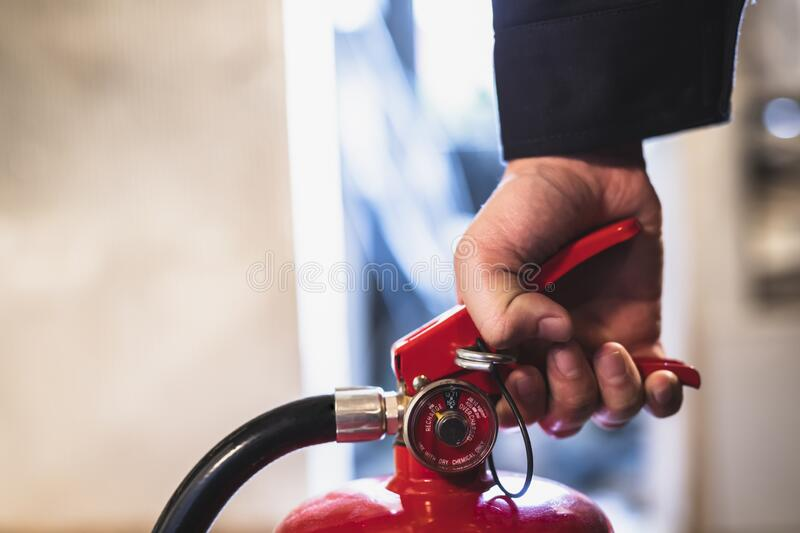fire_extinguisher: (151, 302, 620, 532)
